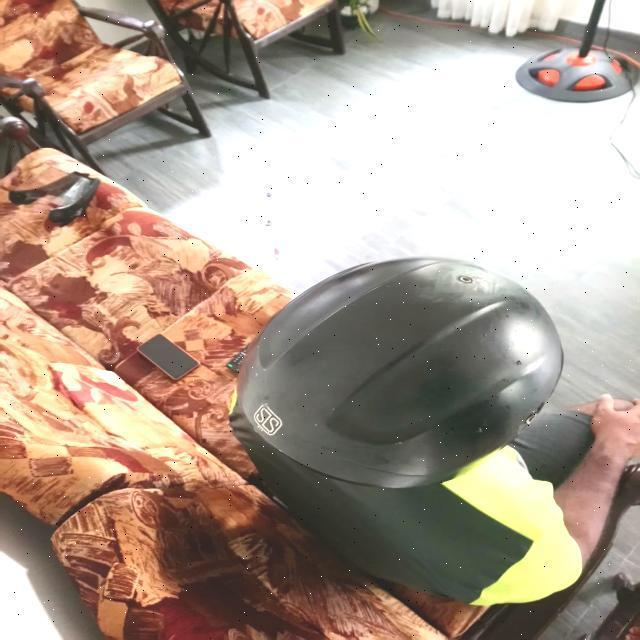helmet: (236, 254, 564, 502)
